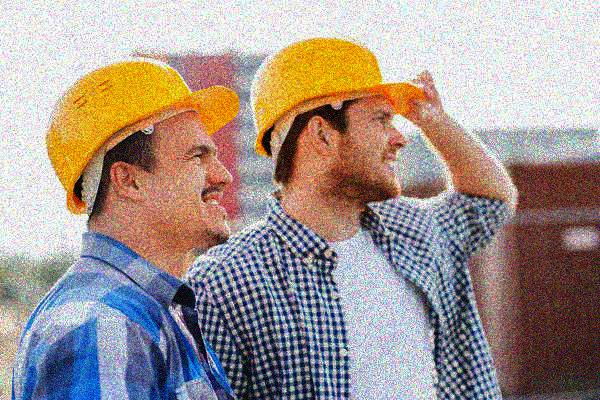helmet: (44, 54, 244, 245), (250, 37, 430, 204)
